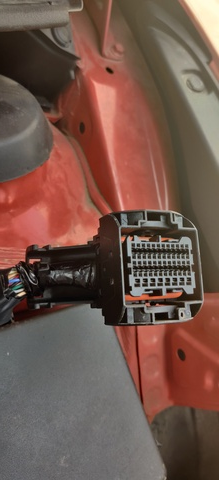connector: (97, 210, 205, 326)
